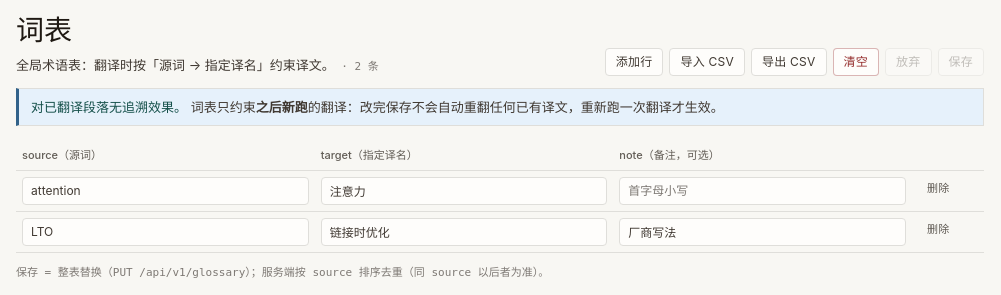
Test case: GlossaryScreen（全局词表） › 清空：confirm 后 DELETE，表变空态
This screenshot has width=1001, height=295.
expect the table is shown: met, box 16,142 -> 984,253
What coordinates should you click on to do the following:
click the button "清空"
I would click on:
 (856, 62)
Its box is 832,48 -> 879,76.
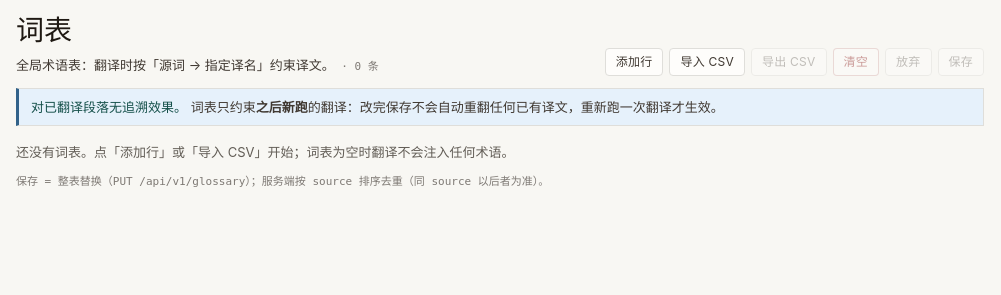
expect the text "还没有词表。点「添加行」或「导入 CSV」开始；词表为空时翻译不会注入任何术语。" is shown: met, box 16,144 -> 514,160
